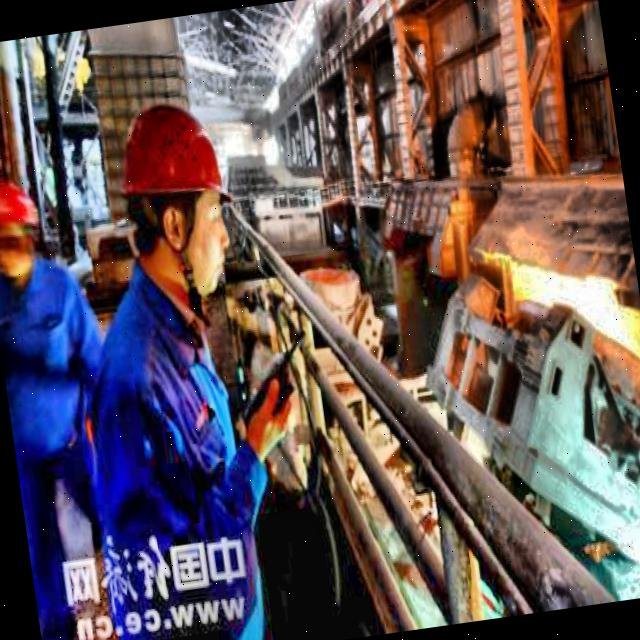helmet: (104, 82, 247, 306), (0, 178, 46, 279)
